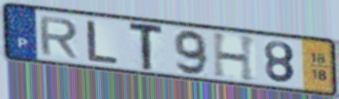8: (263, 40, 297, 85)
9: (172, 29, 211, 77)
H: (210, 31, 259, 84)
L: (86, 19, 121, 66)
R: (37, 15, 80, 60)
T: (128, 22, 166, 73)
